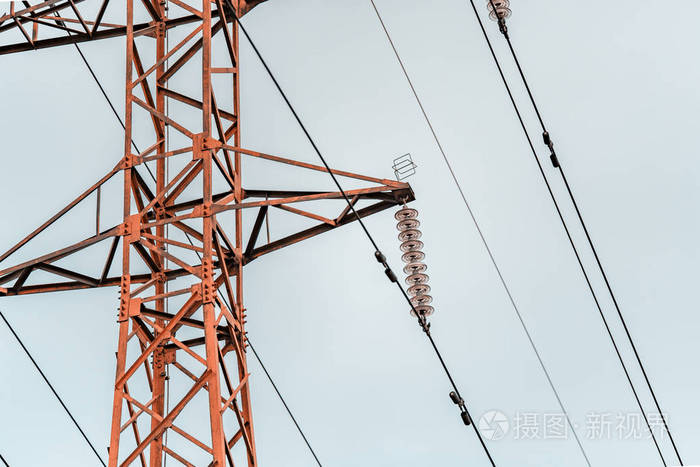insulator: (394, 207, 436, 317)
